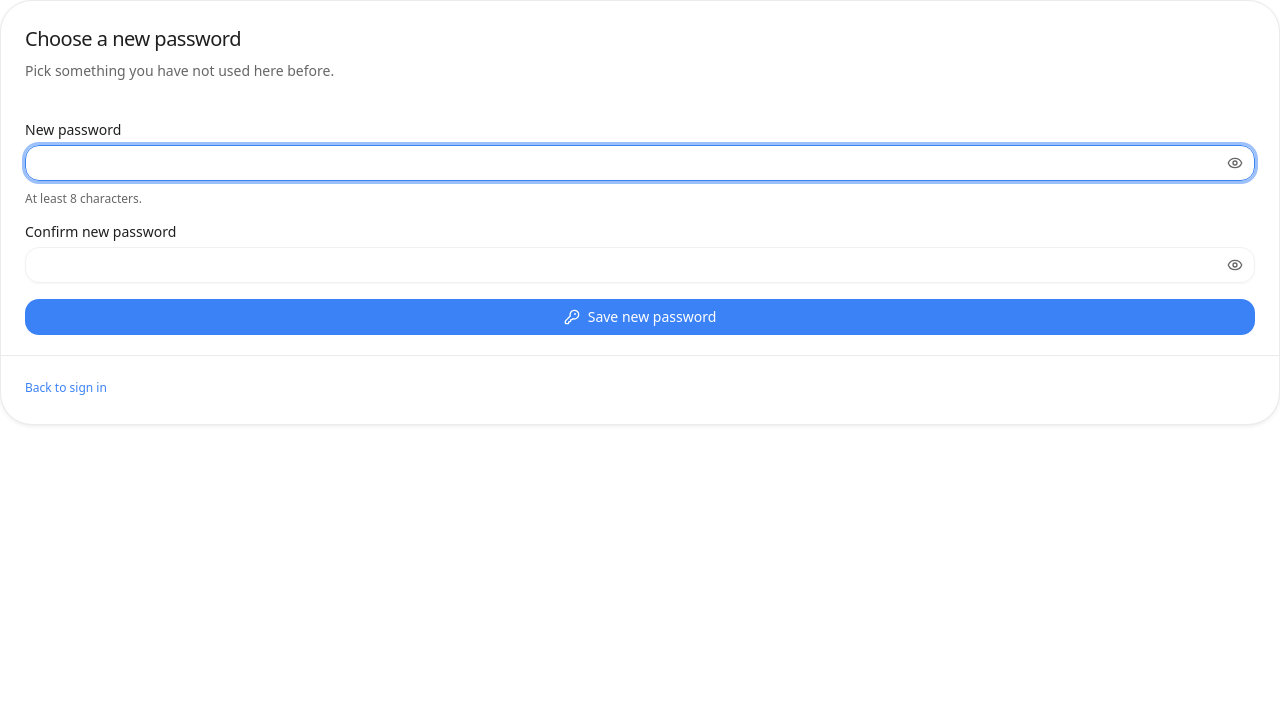
Test: with a usable token › never puts the token on the screen
Type "a-good-password" into the password field labelled "New password" at (640, 163), box left=25, top=145, right=1255, bottom=181
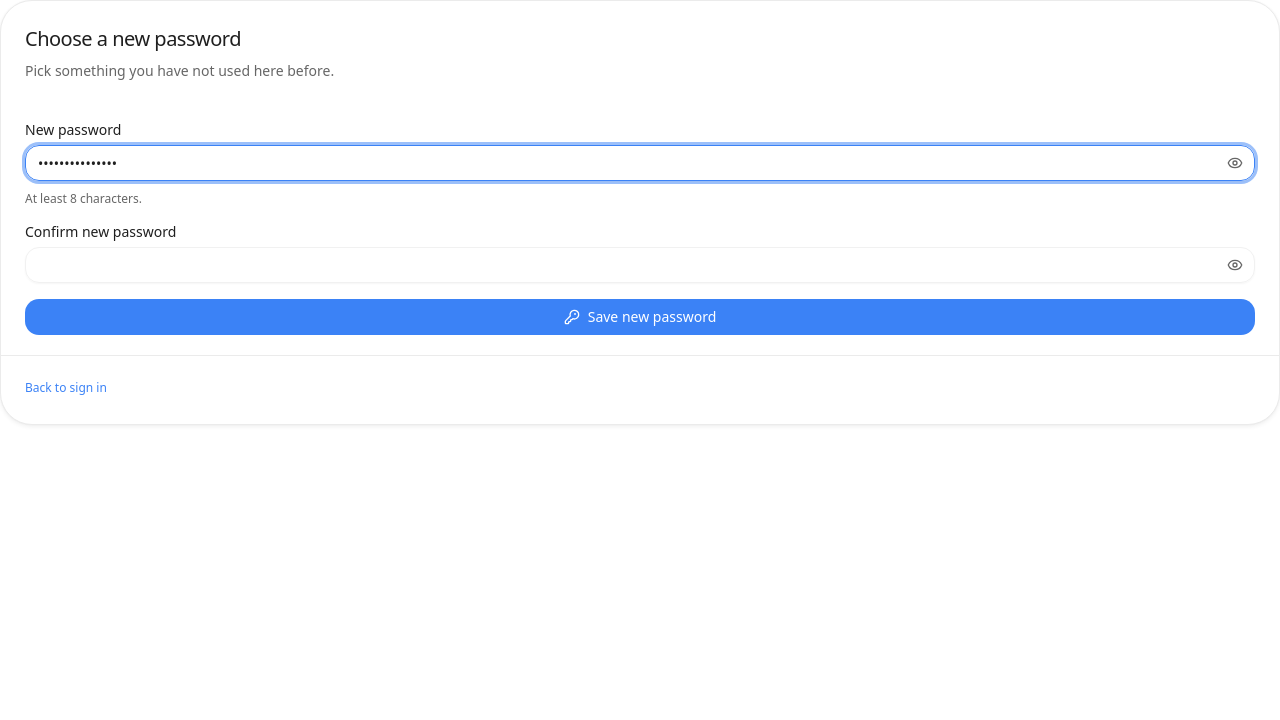
Type "a-good-password" into the password field labelled "Confirm new password" at (640, 265), box left=25, top=247, right=1255, bottom=283
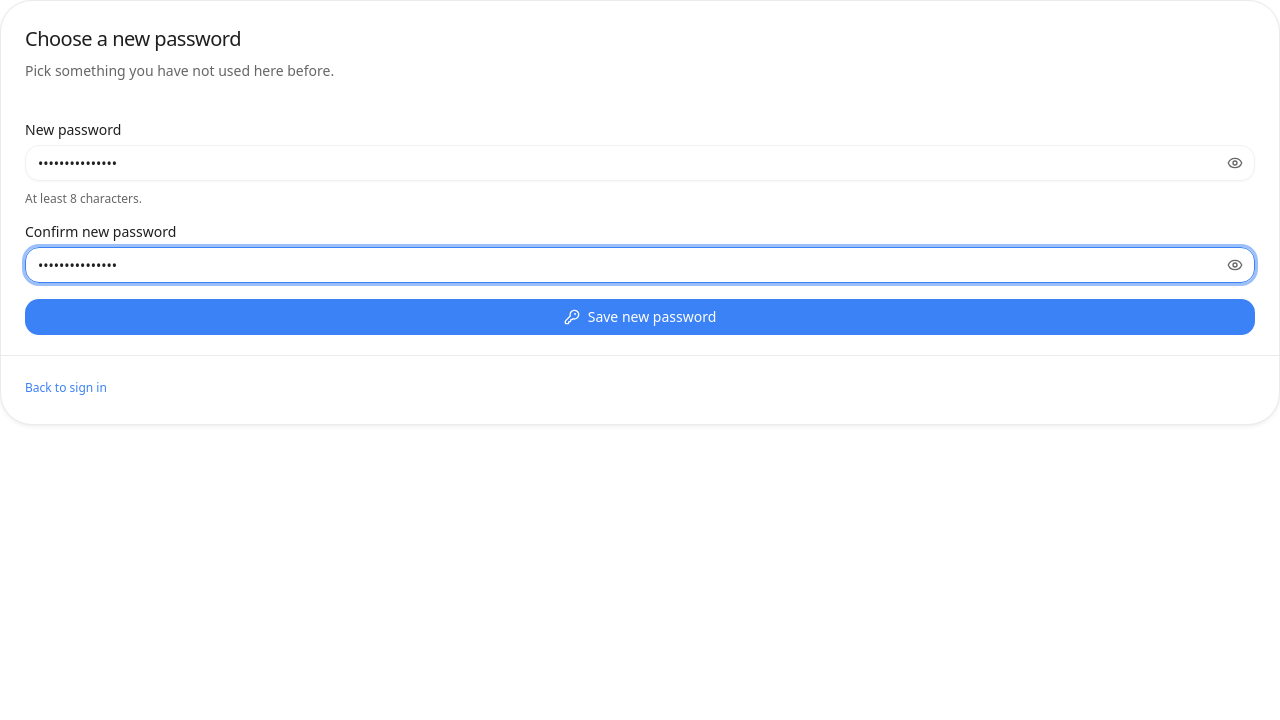
Click the button "Save new password" at (640, 317), box left=25, top=299, right=1255, bottom=335
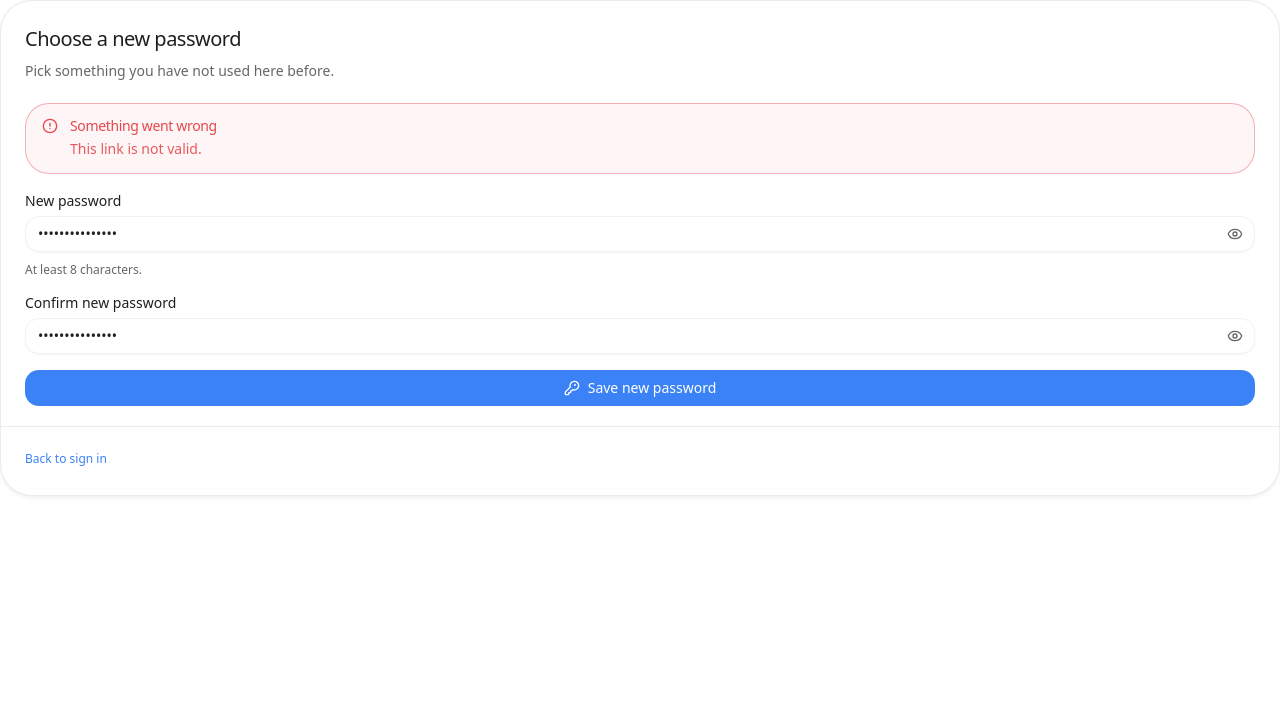
Expected: the message "Something went wrong This link is not valid." is shown, left=25, top=103, right=1255, bottom=174
